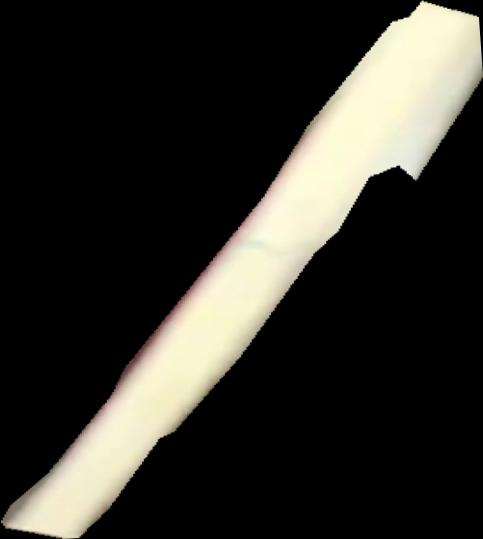backward: (1, 1, 483, 539)
